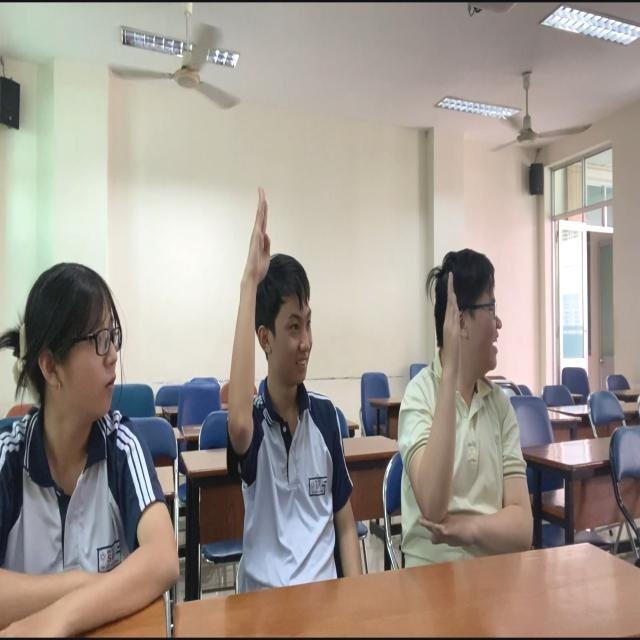raise_hand: (217, 167, 370, 600), (400, 207, 541, 565)
